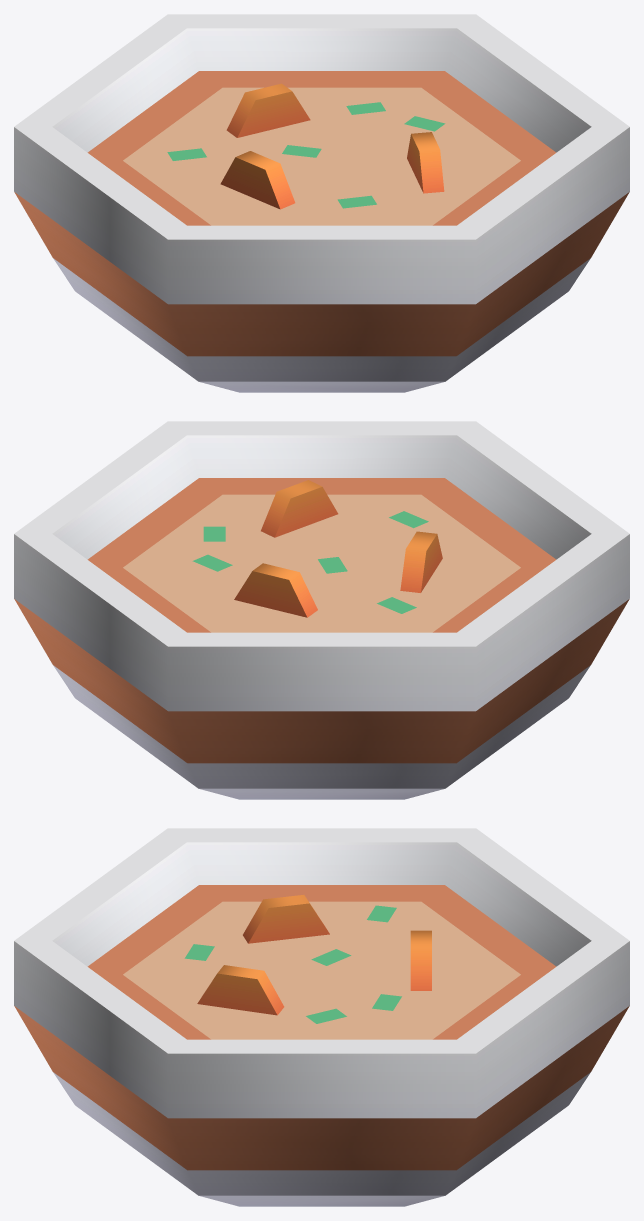
File: food.bowl_soup.glb
3 renders of one model, top to bottom at view 1: azimuth 30°, elevation 25°; view 2: azimuth 150°, elevation 25°; view 3: azimuth 270°, elevation 25°, orthographic.
Parts seen in each view (by area): view 1: bowl-soup; view 2: bowl-soup; view 3: bowl-soup.
Part boxes in pixels (x1,y1,x2,y2): bowl-soup: (14,14,629,392); bowl-soup: (14,421,629,799); bowl-soup: (14,828,629,1206).
Bounding box in the file's own units: 0.1492 × 0.0635 × 0.1722.
1 material, 1 textured.
